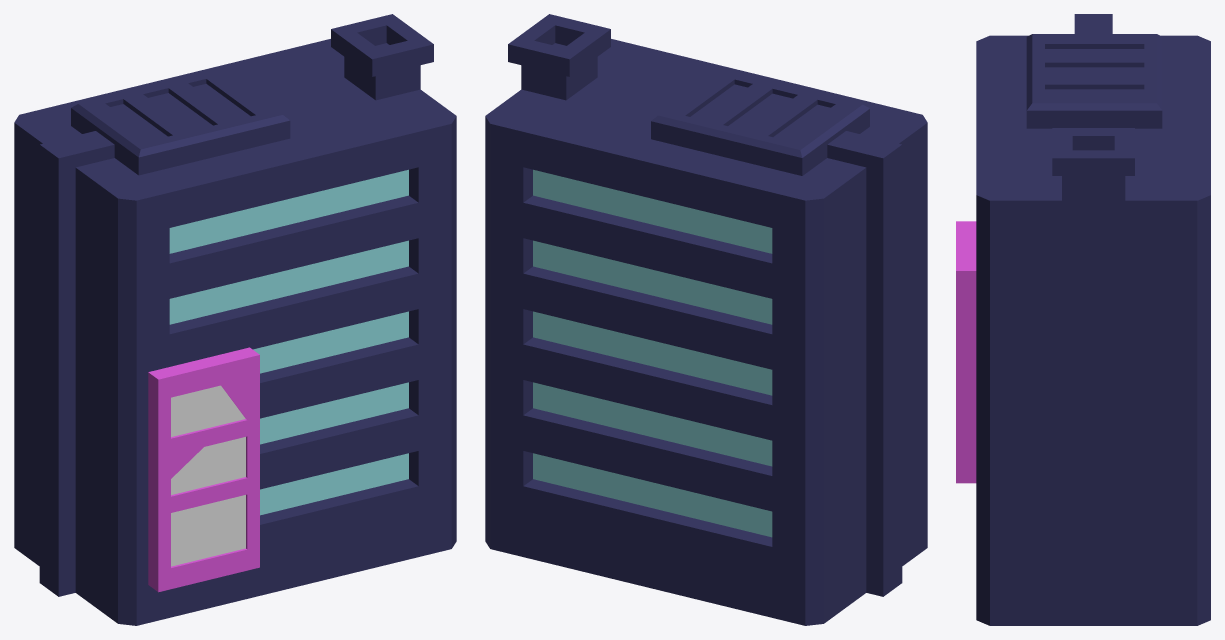
Rendered from Building_6.fbx.
The picture shows the model from 3 angles, left to right: view 1: azimuth 30°, elevation 25°; view 2: azimuth 150°, elevation 25°; view 3: azimuth 270°, elevation 25°; orthographic projection.
Parts seen in each view (by area): view 1: pCube39; view 2: pCube39; view 3: pCube39.
Boxes of the visible parts, left/top/right/bottom form: pCube39: left=14, top=14, right=456, bottom=625; pCube39: left=485, top=14, right=927, bottom=625; pCube39: left=956, top=14, right=1210, bottom=625.
Bounding box in the file's own units: 5.38 × 6.66 × 3.26.
